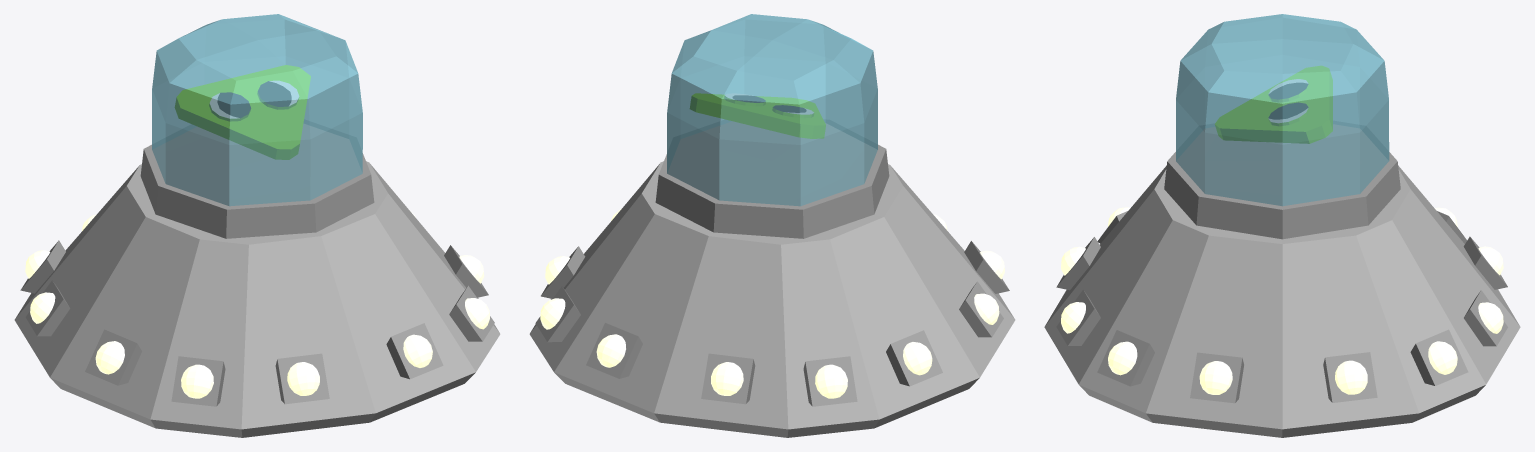
The model's file is Alien.fbx.
The picture shows the model from 3 angles, left to right: view 1: azimuth 30°, elevation 25°; view 2: azimuth 150°, elevation 25°; view 3: azimuth 270°, elevation 25°; orthographic projection.
Visible parts, largest first — view 1: Capsula; view 2: Capsula; view 3: Capsula.
Boxes of the visible parts, left/top/right/bottom form: Capsula: left=14, top=14, right=500, bottom=437; Capsula: left=529, top=14, right=1015, bottom=437; Capsula: left=1044, top=14, right=1520, bottom=437.
Size of the model in its own units: 528 by 365 by 521.
